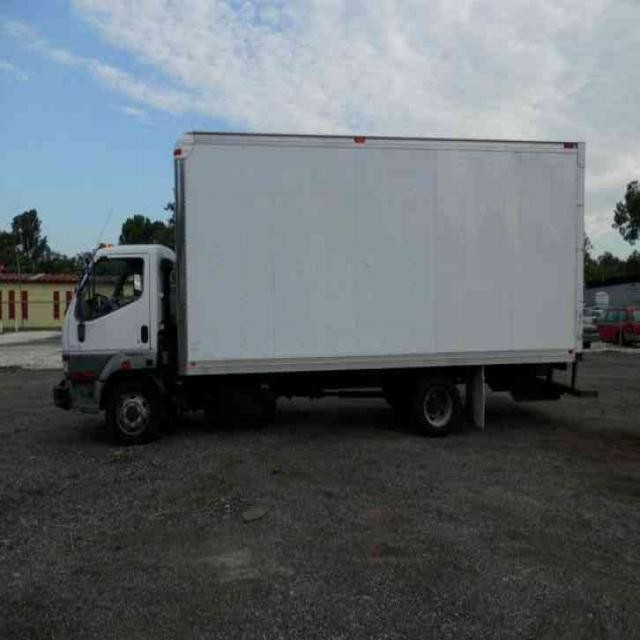Truck: (46, 128, 586, 443)
